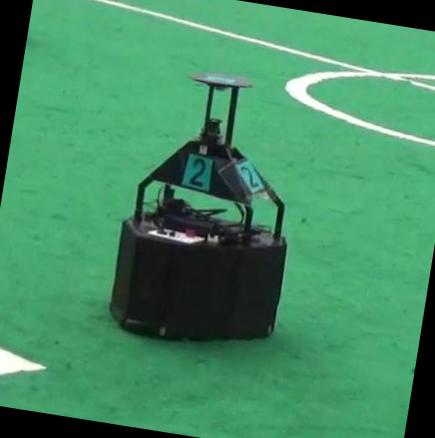robot: (110, 73, 286, 339)
